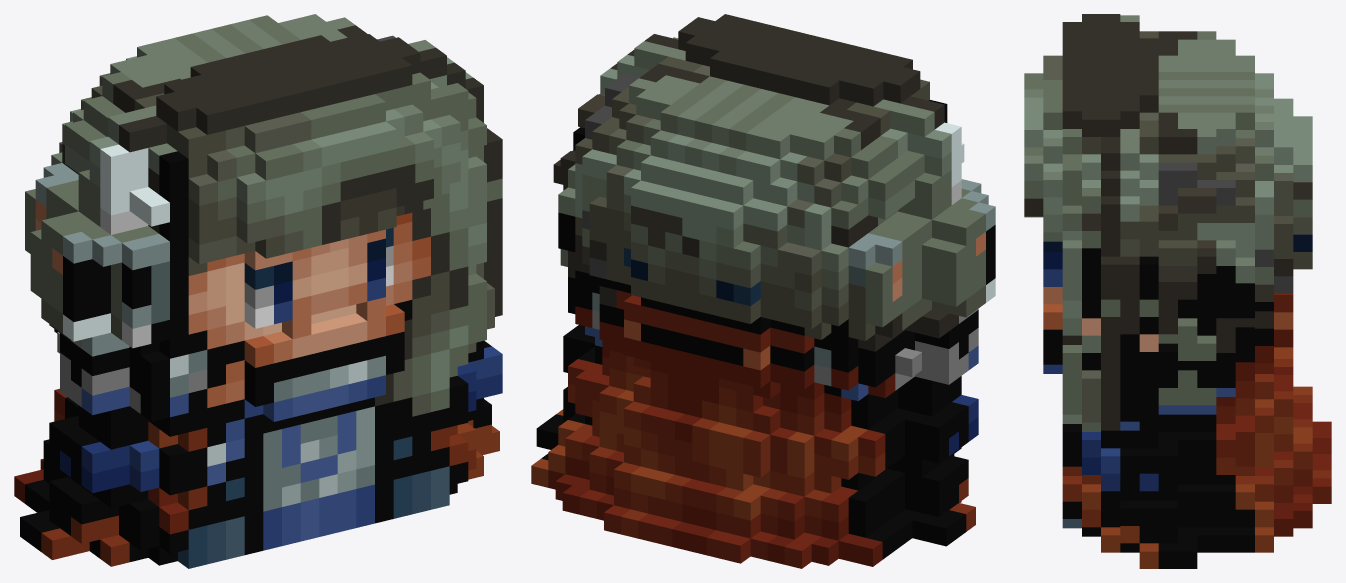
File: Icon_111_02.obj
3 views of the same model, side by side, from view 1: azimuth 30°, elevation 25°; view 2: azimuth 150°, elevation 25°; view 3: azimuth 270°, elevation 25° (orthographic). The views are drawn at different scales.
Bounding box in the file's own units: 2.4 × 2.3 × 1.6.
Materials: 1 (1 with a texture image).
